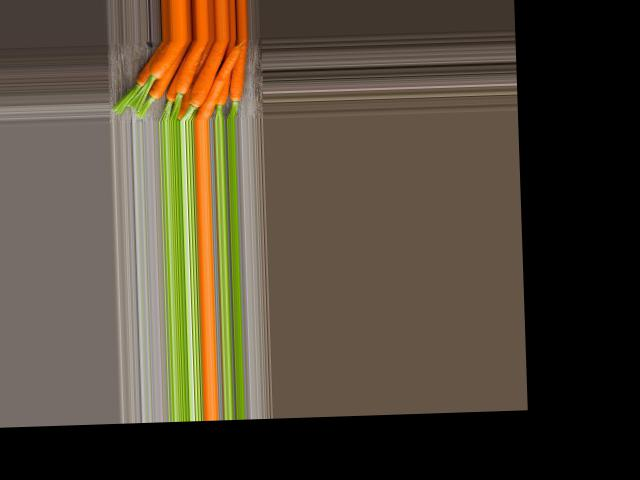carrot: (147, 42, 183, 111)
